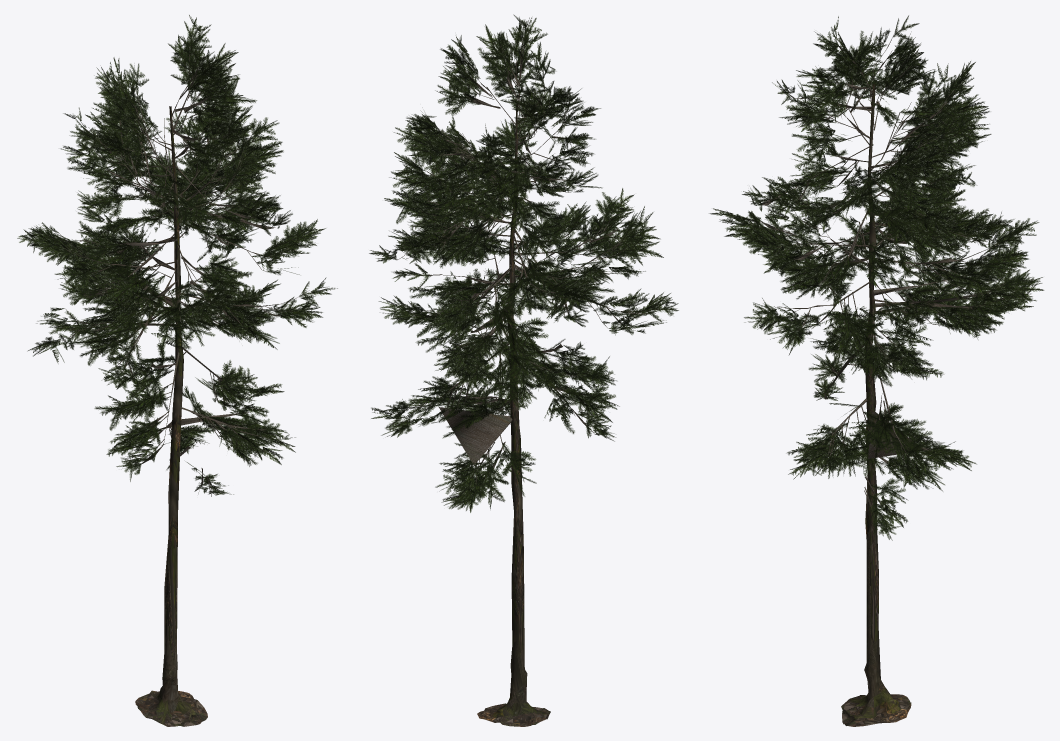
Rendered from fir_tree_01_b_far.glb.
The picture shows the model from 3 angles, left to right: view 1: azimuth 30°, elevation 25°; view 2: azimuth 150°, elevation 25°; view 3: azimuth 270°, elevation 25°; orthographic projection. The views are drawn at different scales.
Parts seen in each view (by area): view 1: fir_tree_01_b_far; view 2: fir_tree_01_b_far; view 3: fir_tree_01_b_far.
Boxes of the visible parts, x1=… form: fir_tree_01_b_far: x1=17, y1=15, x2=337, y2=726; fir_tree_01_b_far: x1=369, y1=14, x2=678, y2=726; fir_tree_01_b_far: x1=709, y1=15, x2=1043, y2=726.
Bounding box in the file's own units: 5.63 × 13.96 × 6.05.
3 materials, 3 textured.
